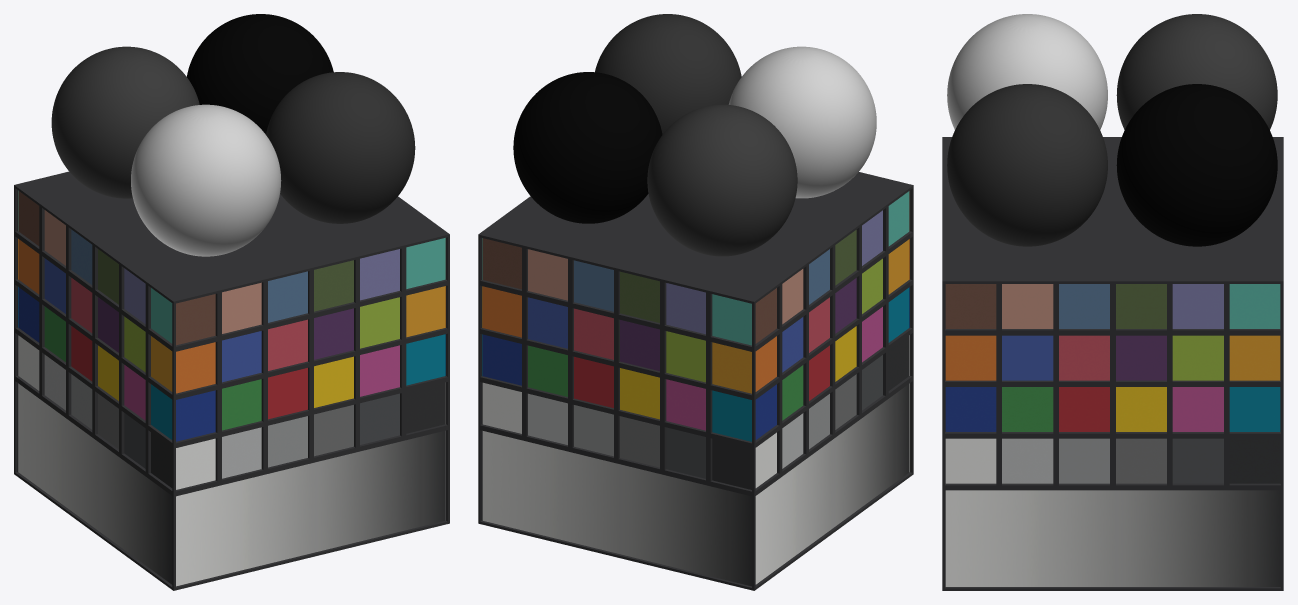
Rendered from SM_ColorCalibrator.FBX.
The picture shows the model from 3 angles, left to right: view 1: azimuth 30°, elevation 25°; view 2: azimuth 150°, elevation 25°; view 3: azimuth 270°, elevation 25°; orthographic projection. The views are drawn at different scales.
Parts seen in each view (by area): view 1: SM_ColorCalibrator; view 2: SM_ColorCalibrator; view 3: SM_ColorCalibrator.
Part boxes in pixels (x1,y1,x2,y2): SM_ColorCalibrator: (14, 14, 449, 590); SM_ColorCalibrator: (478, 14, 913, 590); SM_ColorCalibrator: (942, 14, 1283, 590).
Bounding box in the file's own units: 60 × 60 × 89.66.
